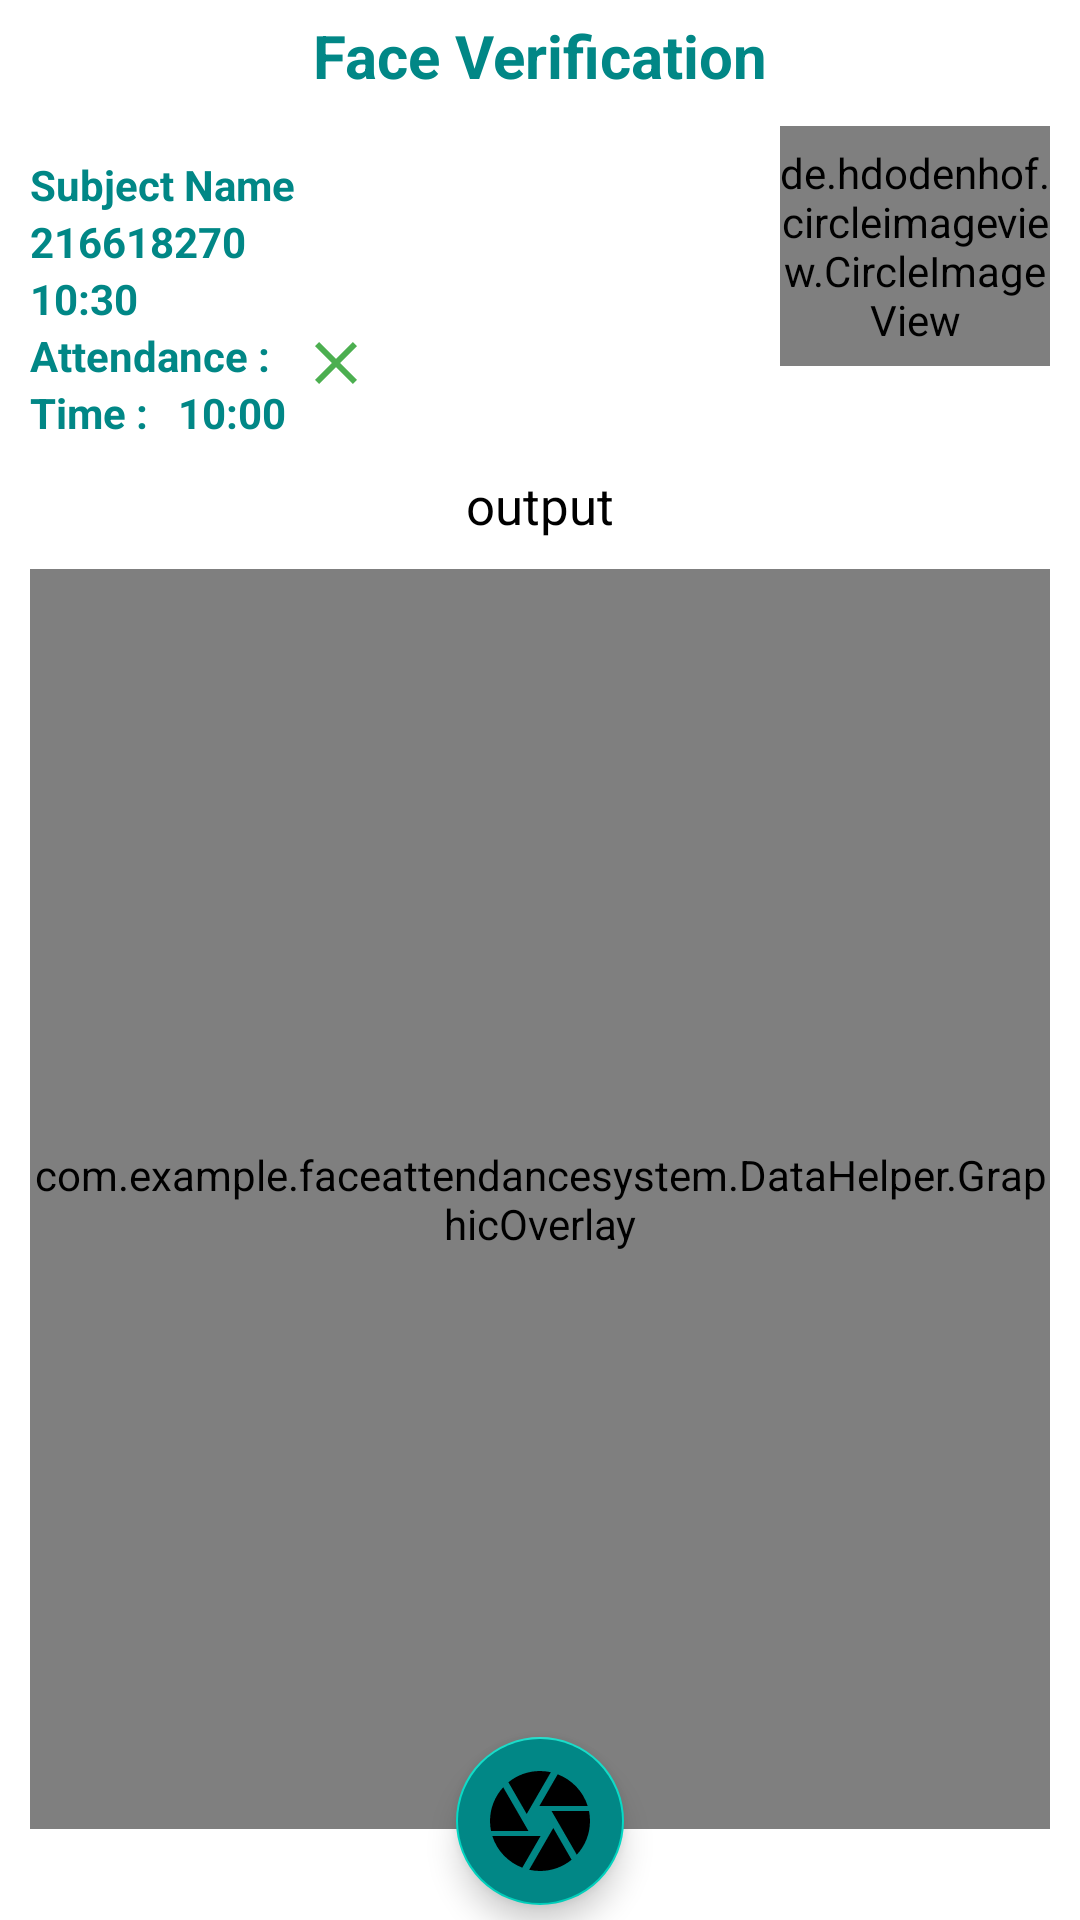

Icons on this 1080px x 1920px Android screen, each with its box as (x1=x1, y1=y1, x2=x2, y2=y2):
wrong: (x1=315, y1=342, x2=357, y2=384)
